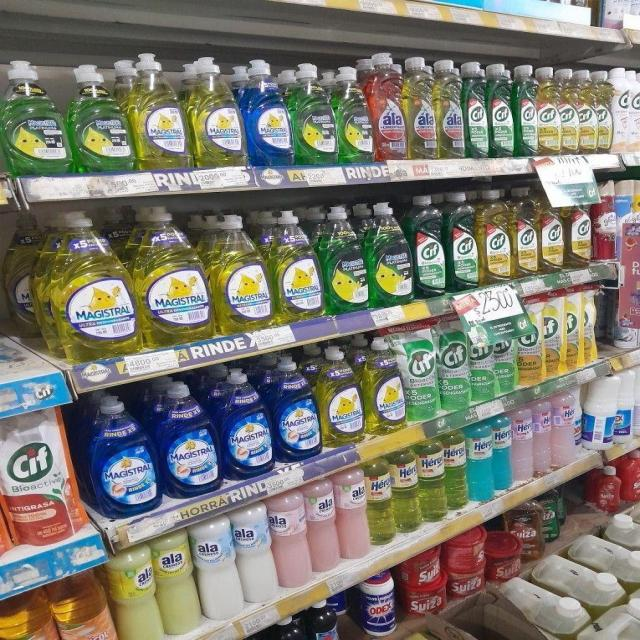ala_conc_amarillo: (406, 54, 436, 160), (436, 57, 464, 159)
ala_conc_rojo: (372, 51, 406, 162)
ala_crem_amarillo: (112, 544, 157, 640), (156, 531, 196, 637)
ala_crem_blanco: (196, 515, 240, 621), (238, 501, 275, 604)
ala_crem_rosado: (274, 489, 308, 589), (337, 467, 368, 561), (308, 479, 338, 573)
cif_conc_bot_amarilla: (479, 188, 512, 284), (512, 185, 538, 277), (540, 186, 564, 272), (566, 189, 592, 268), (538, 65, 560, 156), (559, 67, 578, 155), (578, 68, 595, 155), (596, 68, 612, 154)
cif_conc_botella_verde: (414, 194, 446, 298), (447, 191, 478, 292), (488, 62, 514, 158), (465, 61, 488, 159), (514, 64, 536, 158)
cif_conc_sachet_amarillo: (518, 296, 543, 384), (544, 293, 564, 377), (564, 288, 582, 370)
cif_conc_sachet_verde: (405, 324, 437, 421), (439, 321, 468, 410), (469, 314, 494, 402)
heroe: (392, 447, 420, 534), (368, 458, 393, 546), (467, 420, 493, 502), (552, 388, 578, 468), (513, 406, 533, 483), (493, 413, 512, 491), (533, 398, 551, 475)
magistral_con_amarillo: (48, 210, 137, 360), (138, 205, 210, 345), (214, 213, 272, 333), (133, 52, 188, 169), (191, 55, 243, 168), (274, 209, 322, 321), (320, 347, 363, 448), (365, 337, 403, 435)
magistral_con_azul: (88, 395, 156, 517), (159, 380, 218, 497), (221, 368, 271, 480), (245, 58, 292, 166), (273, 355, 318, 463)
magistral_con_verde: (3, 62, 74, 174), (70, 64, 134, 169), (318, 207, 368, 312), (370, 202, 416, 300), (294, 63, 336, 162), (336, 68, 371, 165)
